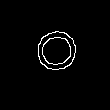O_W: (29, 30, 81, 80)
